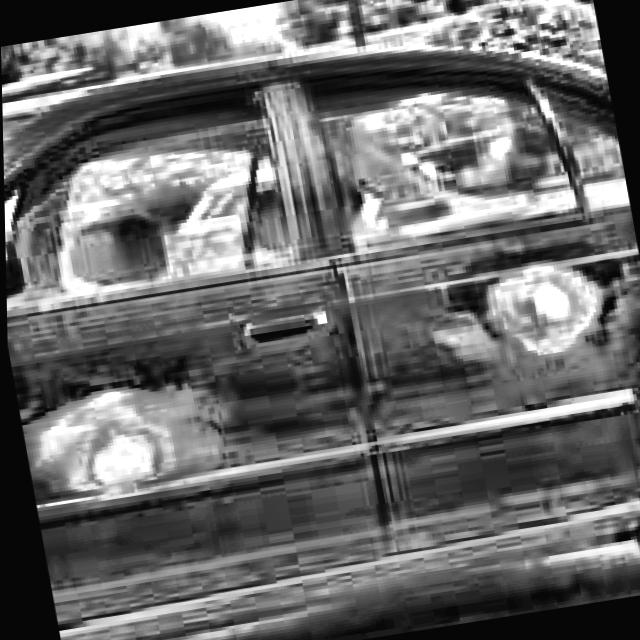door_dent: (18, 377, 226, 517), (431, 253, 632, 385)
